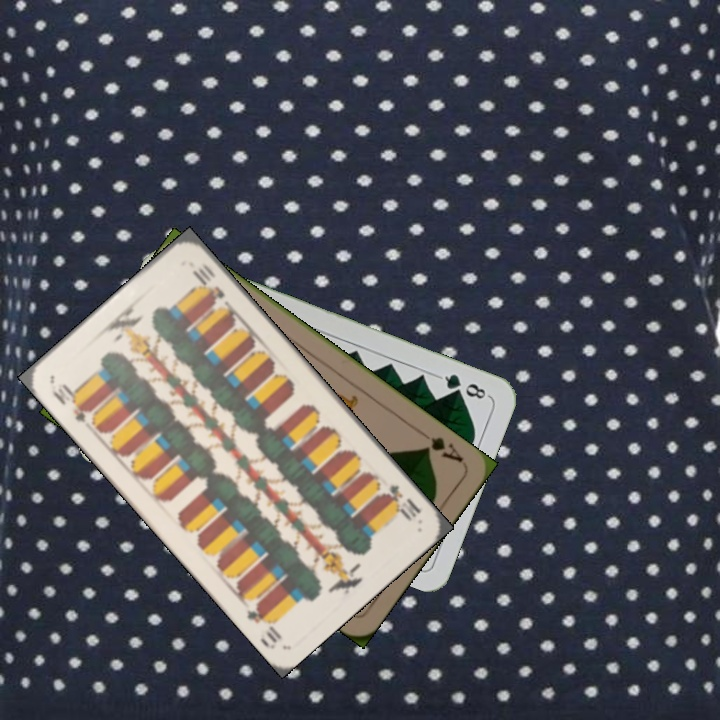E10: (46, 379, 93, 426), (378, 480, 424, 524)
G8: (435, 370, 492, 402)
GA: (414, 426, 466, 466)
